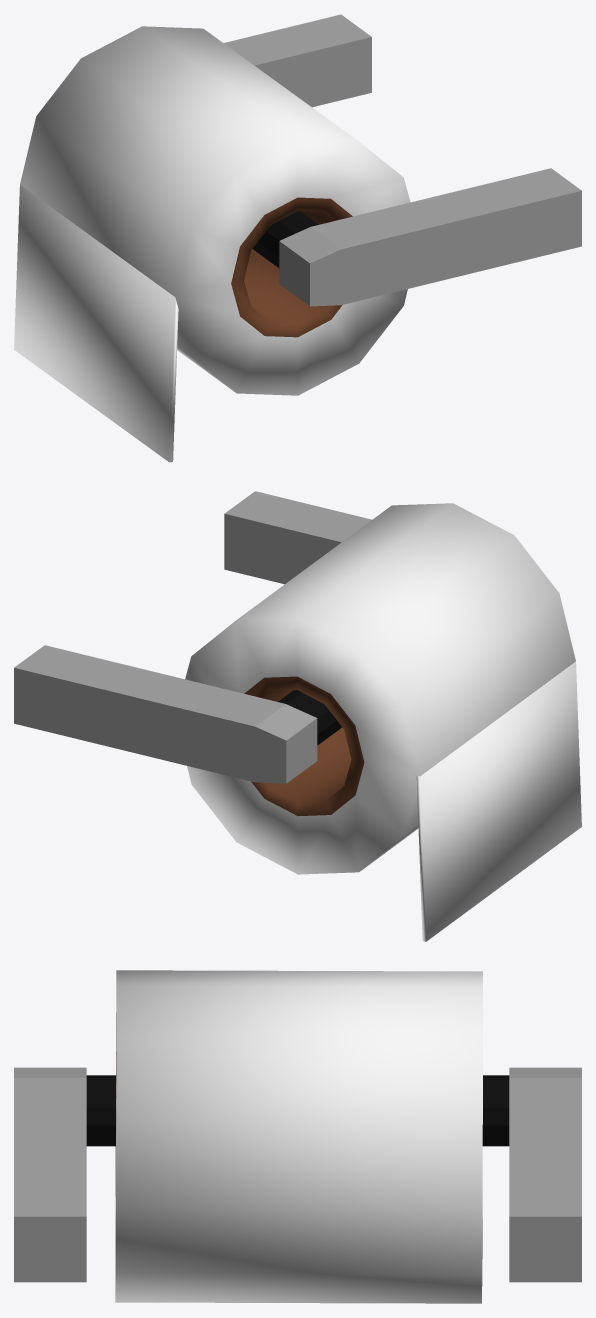
File: toilet_paper.glb
3 renders of one model, top to bottom at view 1: azimuth 30°, elevation 25°; view 2: azimuth 150°, elevation 25°; view 3: azimuth 270°, elevation 25°, orthographic. The views are drawn at different scales.
Parts seen in each view (by area): view 1: Cylinder.001, Cube, Cube.002, Cylinder; view 2: Cylinder.001, Cube.002, Cube, Cylinder; view 3: Cylinder.001, Cube, Cube.002, Cylinder.
Boxes of the visible parts, bbox=[...] form: Cylinder.001: bbox=[14, 26, 410, 462]; Cube: bbox=[279, 168, 581, 306]; Cube.002: bbox=[223, 14, 371, 107]; Cylinder: bbox=[253, 211, 318, 268]; Cylinder.001: bbox=[185, 503, 581, 941]; Cube.002: bbox=[14, 645, 317, 783]; Cube: bbox=[224, 491, 371, 584]; Cylinder: bbox=[278, 690, 342, 745]; Cylinder.001: bbox=[115, 970, 482, 1303]; Cube: bbox=[14, 1067, 86, 1282]; Cube.002: bbox=[509, 1067, 581, 1282]; Cylinder: bbox=[86, 1075, 509, 1146].
Bounding box in the file's own units: 0.1385 × 0.105 × 0.1564.
